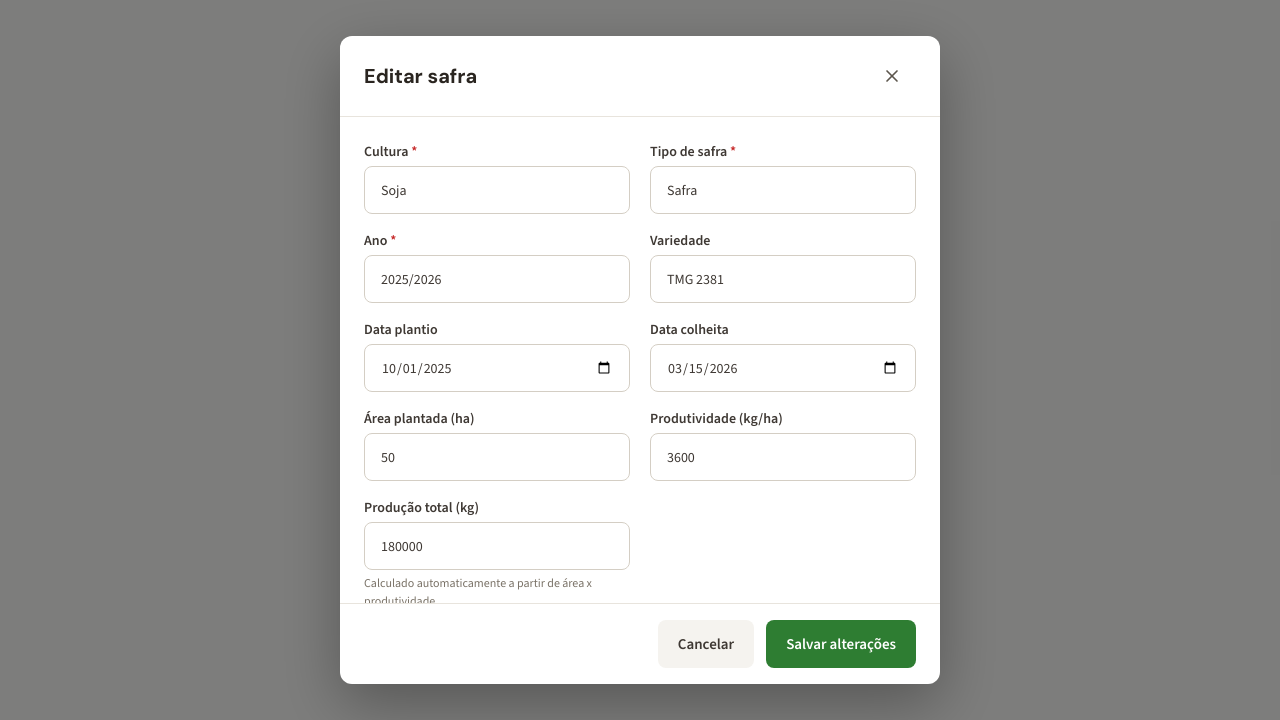
Scenario: EditCropSeasonModal › shows submit error on API failure
Click the button "Salvar alterações".
click(841, 644)  # box [766,620,916,668]
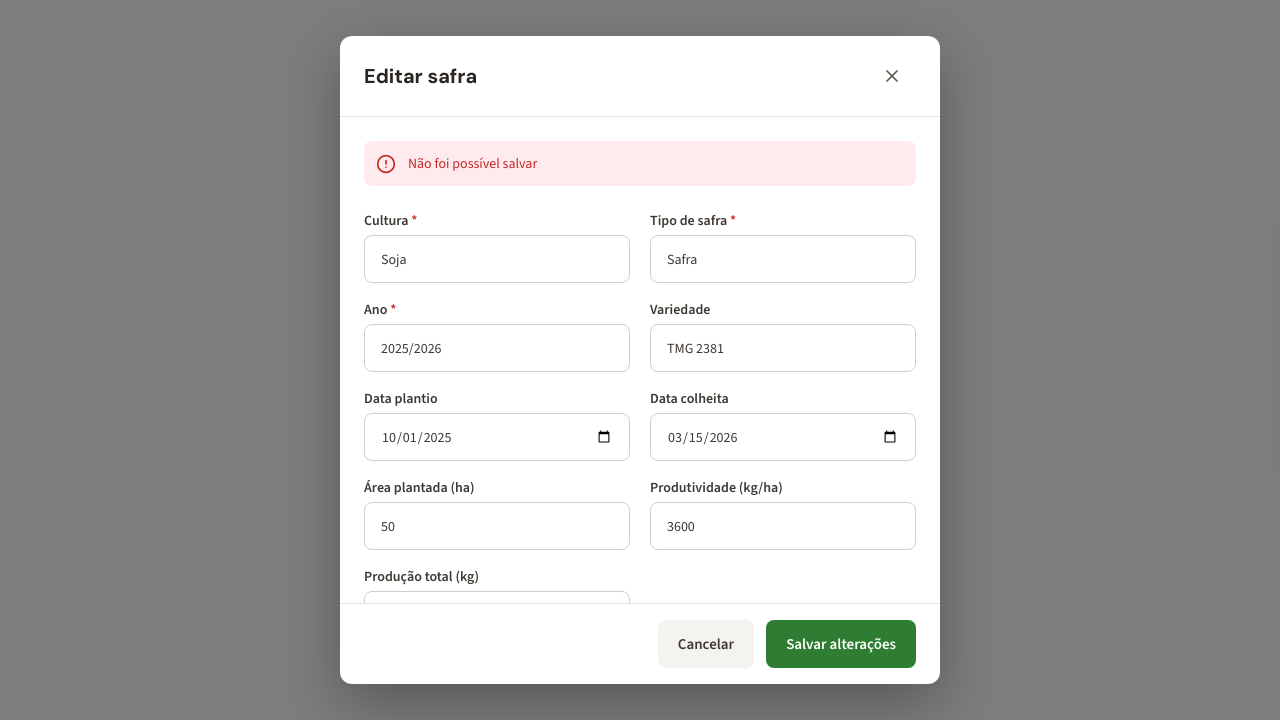
Result: the text "Não foi possível salvar" is shown at [364,141,916,186]
